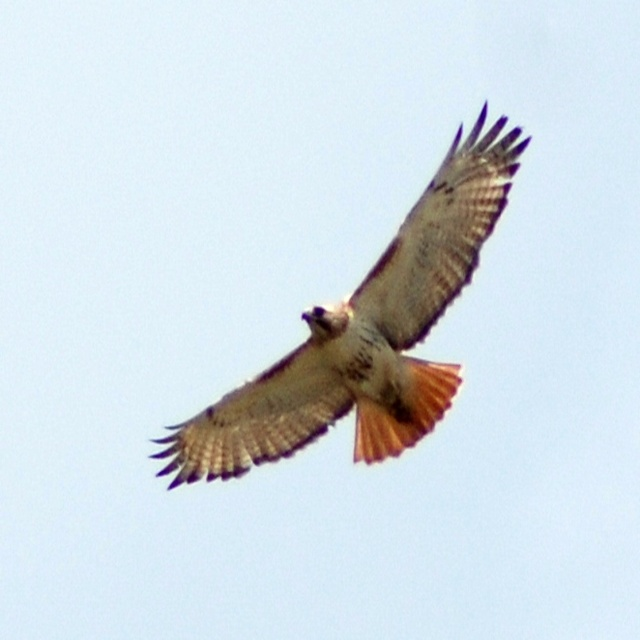Eagle: (147, 87, 540, 490)
